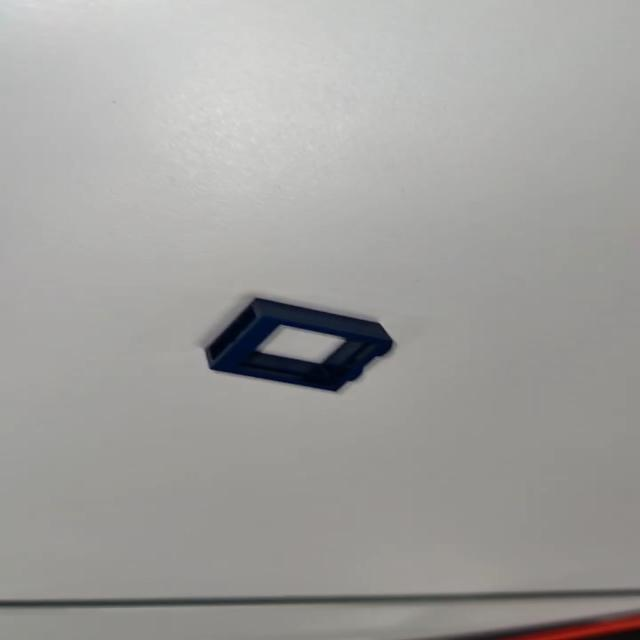W2x1x2: (200, 294, 399, 396)
